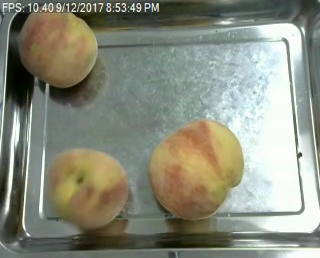Peach: (149, 118, 246, 218), (46, 148, 128, 230), (18, 4, 98, 88)
